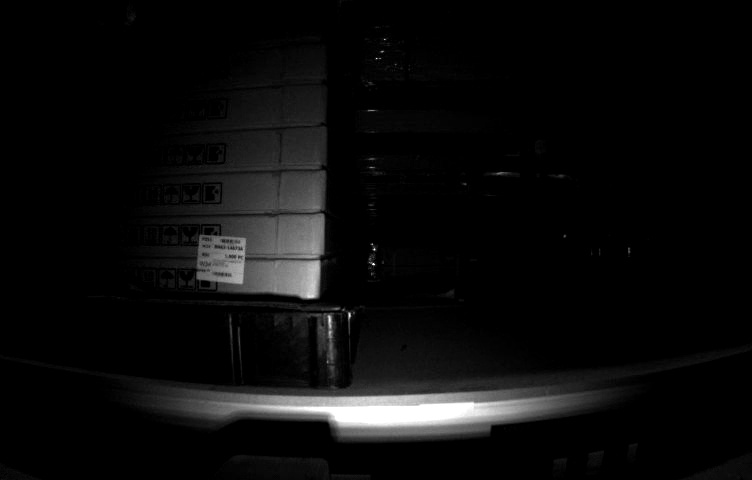True Barcode: (196, 236, 245, 287)
